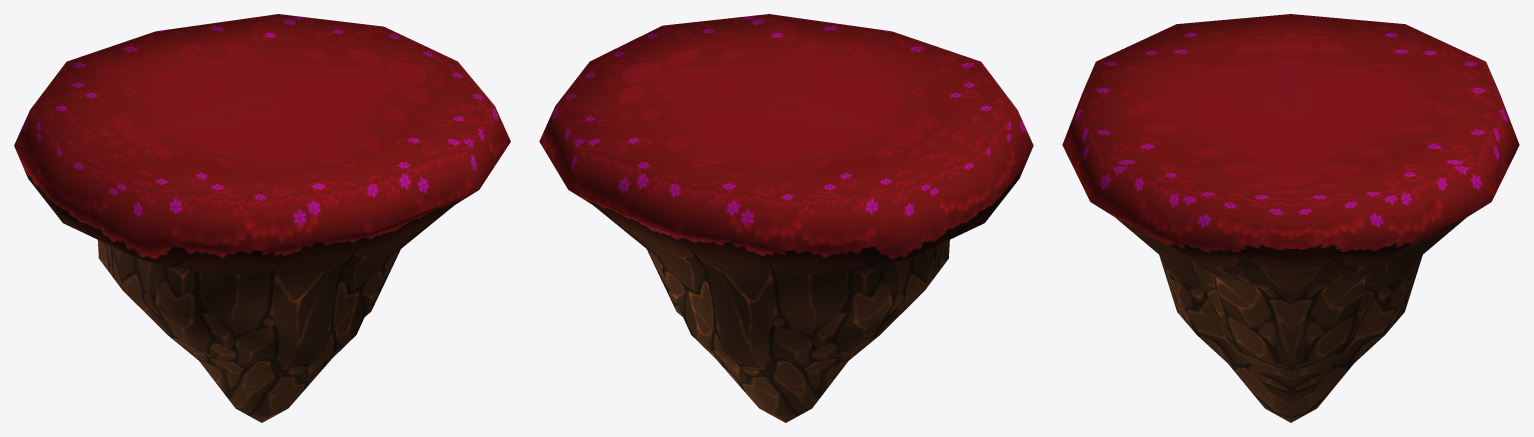
File: Red_Island.FBX
3 renders of one model, left to right at view 1: azimuth 30°, elevation 25°; view 2: azimuth 150°, elevation 25°; view 3: azimuth 270°, elevation 25°, orthographic.
Visible parts, largest first — view 1: Red_Island; view 2: Red_Island; view 3: Red_Island.
Boxes of the visible parts, x1,y1,x2,y2 form: Red_Island: (14, 14, 510, 422); Red_Island: (539, 14, 1033, 422); Red_Island: (1062, 14, 1519, 422).
Size of the model in its own units: 1823 by 1312 by 1724.
